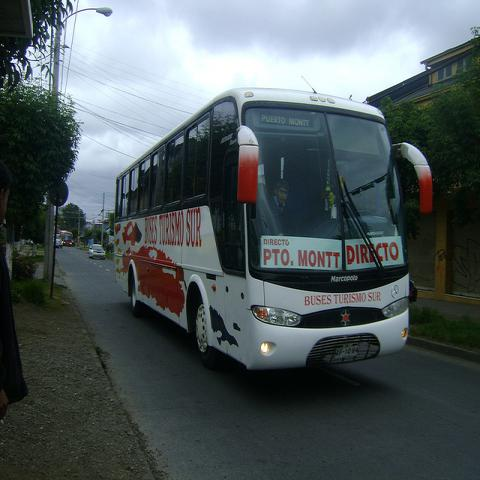bus: (113, 88, 433, 373), (59, 230, 73, 246)
car: (89, 244, 105, 260), (409, 280, 418, 303), (62, 240, 72, 247)
